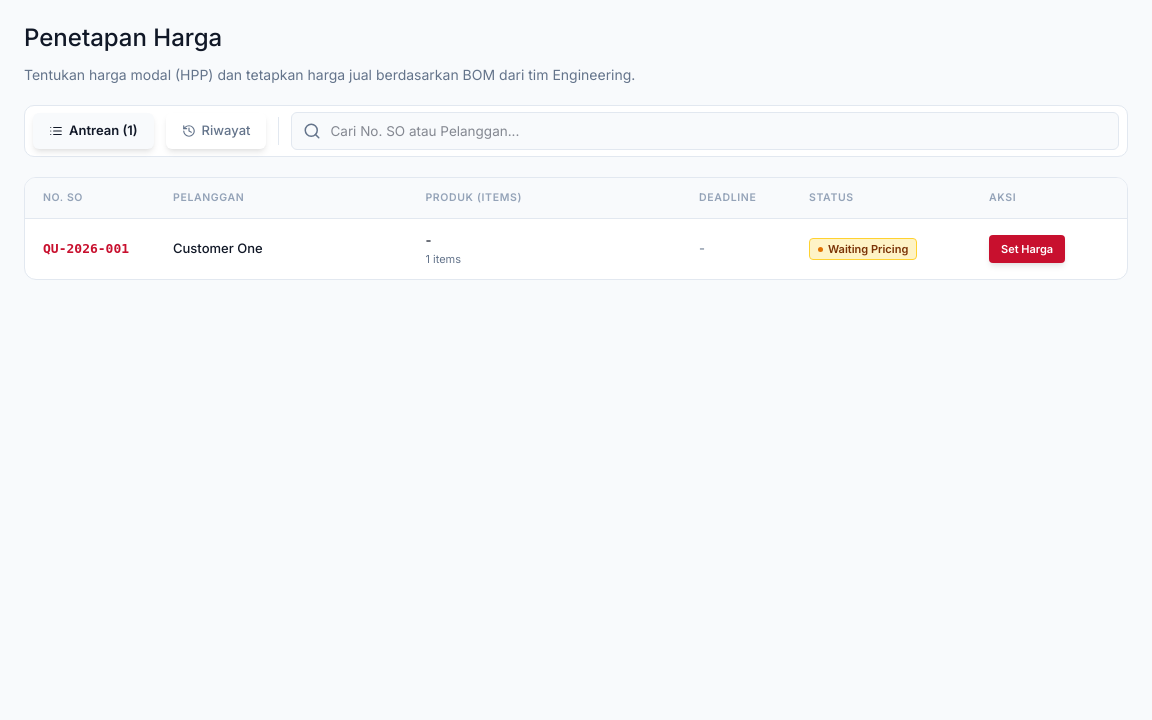
FinanceCosting pricing API selection › does not show success or update local state when quotation pricing fails
expect the text "QU-2026-001" is shown: met, box [43,241,129,256]
Click the button "Set Harga": click(1027, 249) [989,235,1065,263]
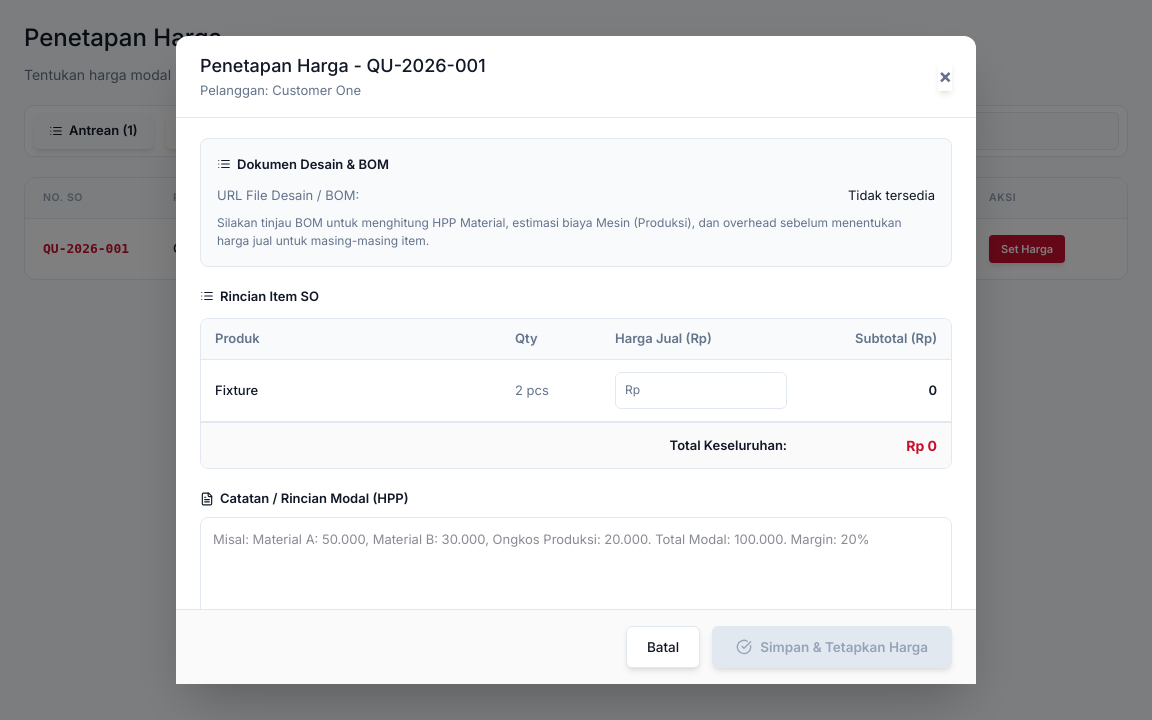
In the field: (701, 390) [615,372,787,409], type "1.000"
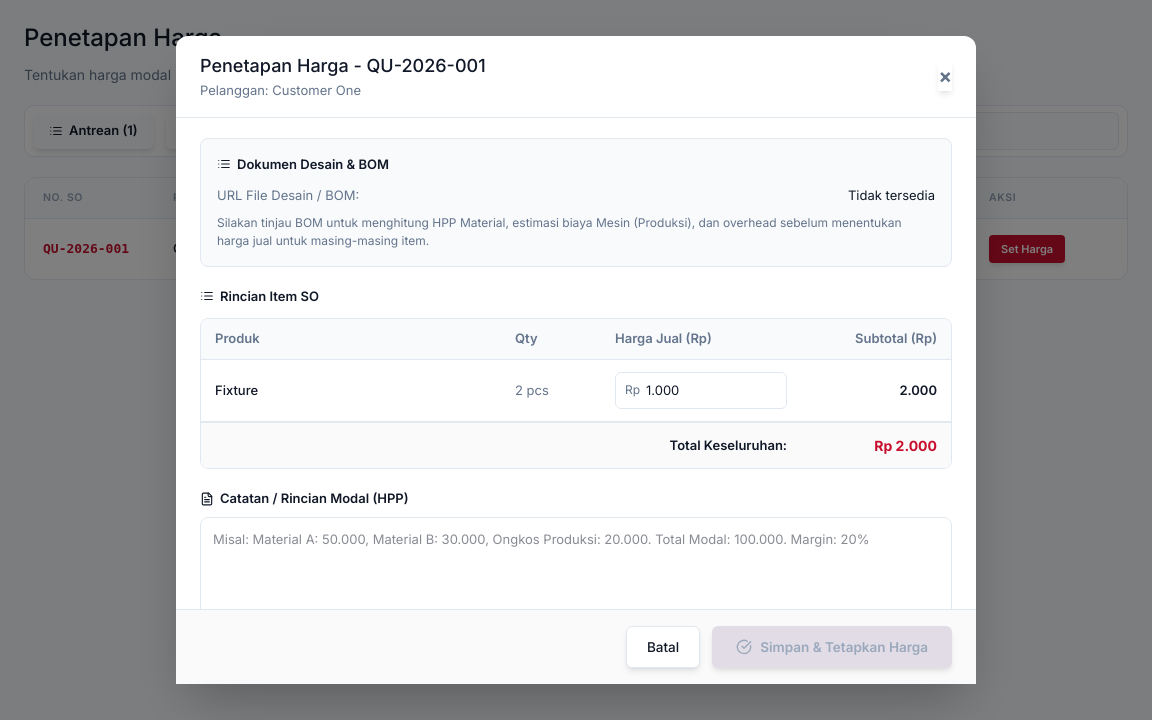
Click the button "Simpan & Tetapkan Harga": click(832, 647) [712,626,952,668]
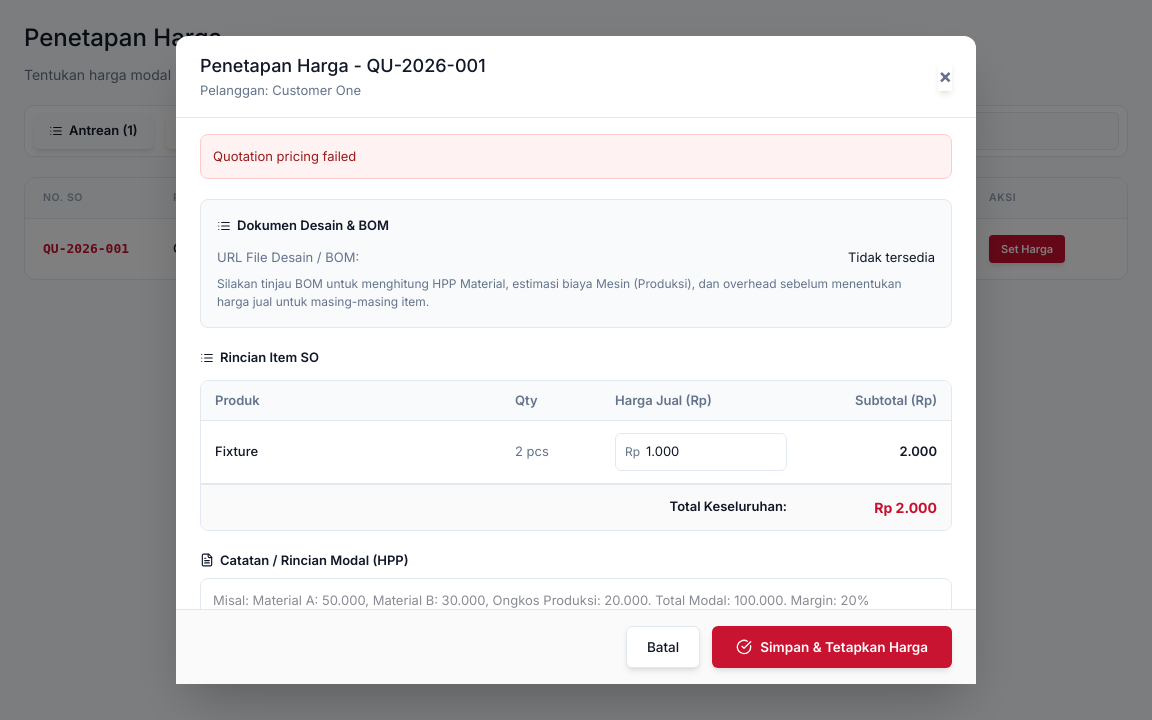
expect the message reads "Quotation pricing failed": met, box [213,148,356,164]
